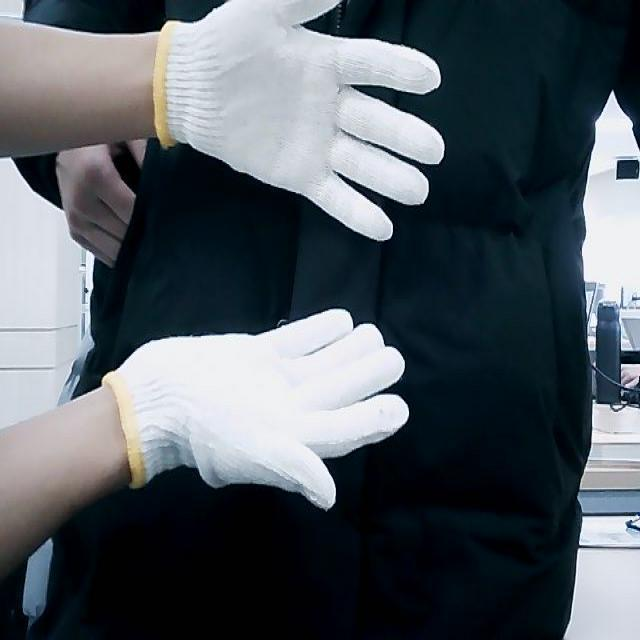gloves: (154, 0, 447, 244), (101, 306, 412, 514)
